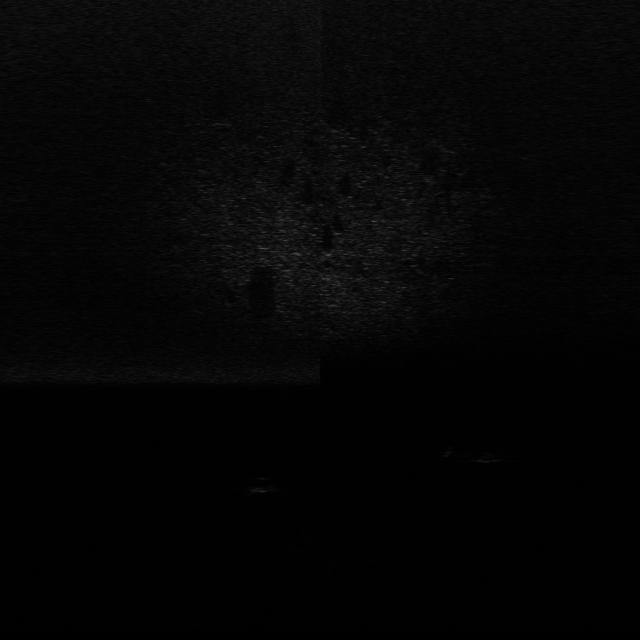ball: (250, 473, 280, 495)
human body: (440, 441, 520, 466)
